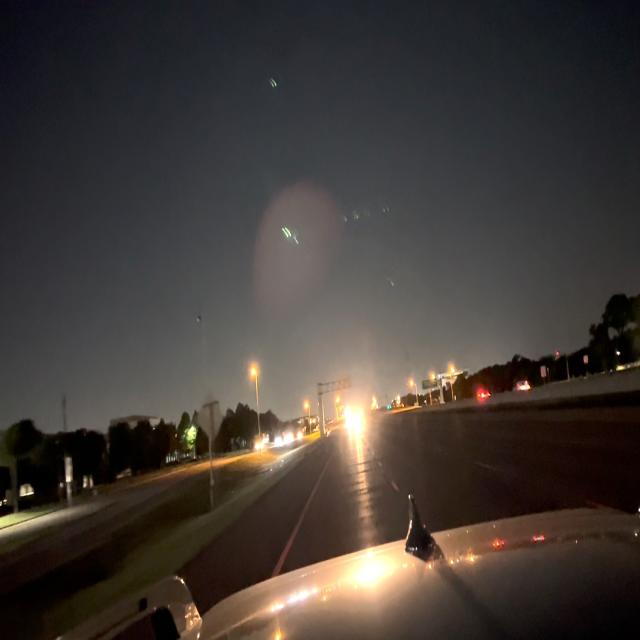back-of-sign: (197, 390, 224, 445)
